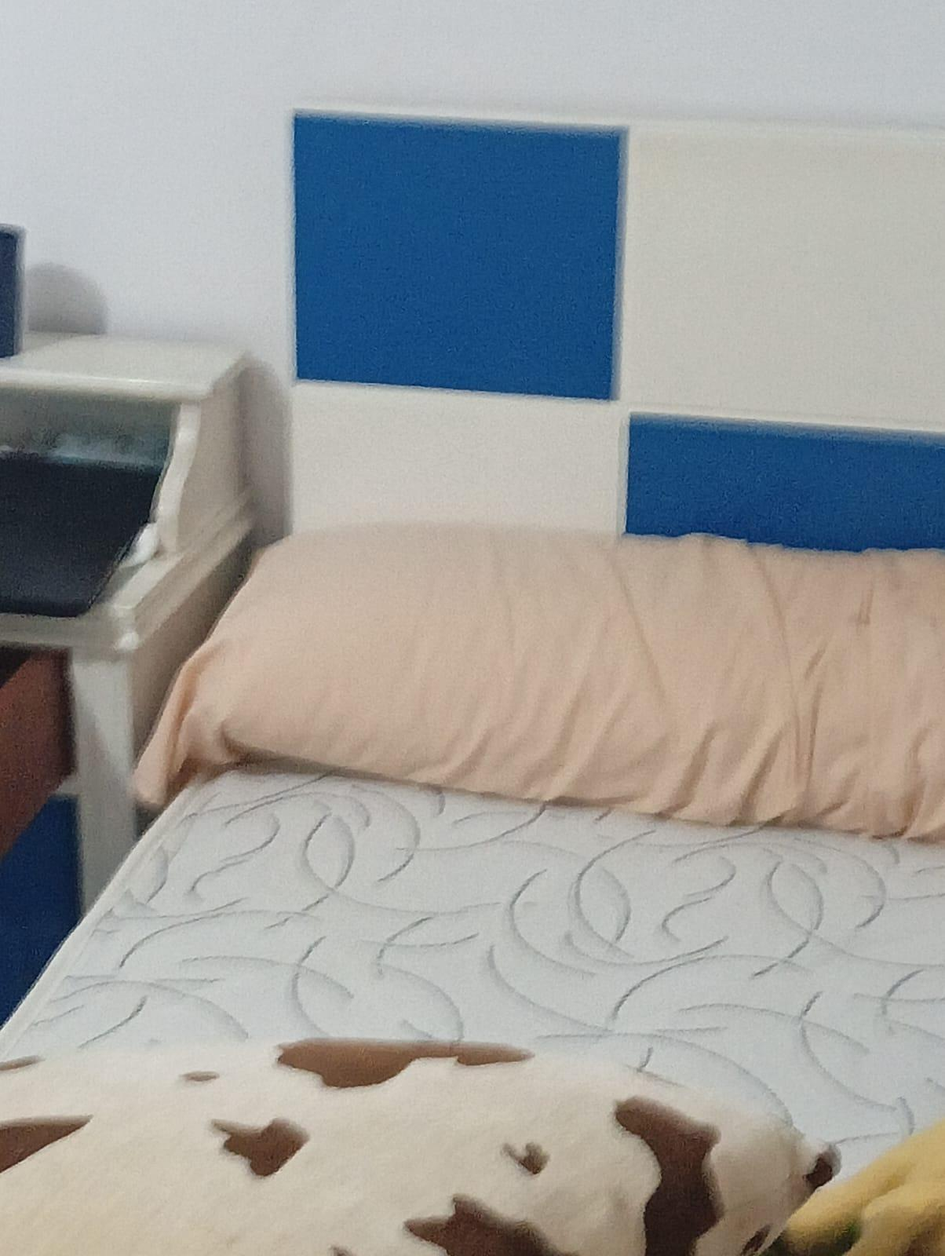cup: (0, 225, 23, 357)
